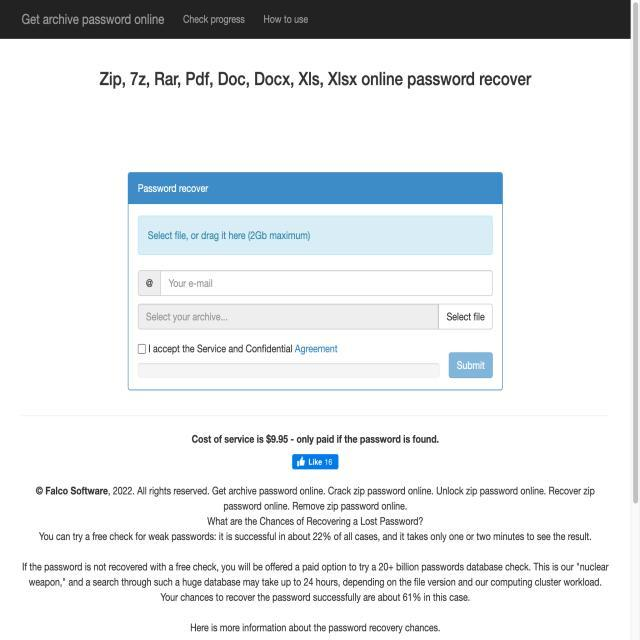checkbox: (130, 337, 150, 359)
input field: (133, 262, 497, 298), (133, 302, 499, 332), (136, 356, 442, 384)
